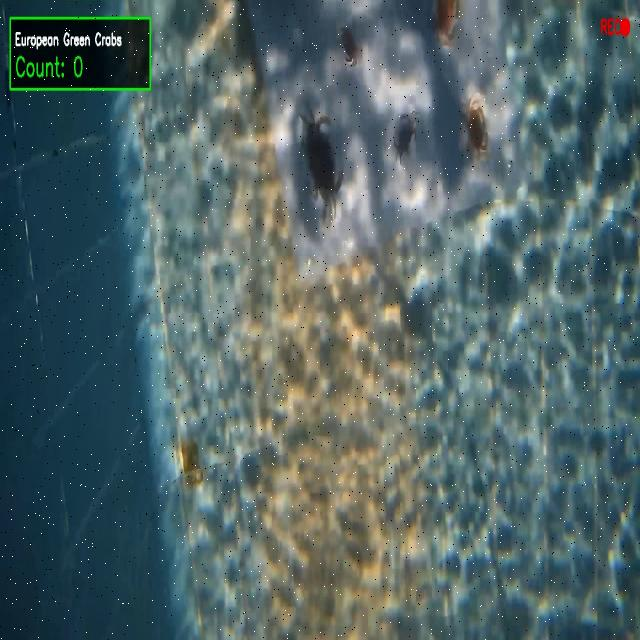European_Green_Crab: (293, 97, 354, 233), (389, 98, 420, 168)
